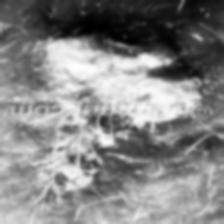Potentially Malignant Skin Tumors: (27, 30, 201, 104), (32, 124, 126, 194)
